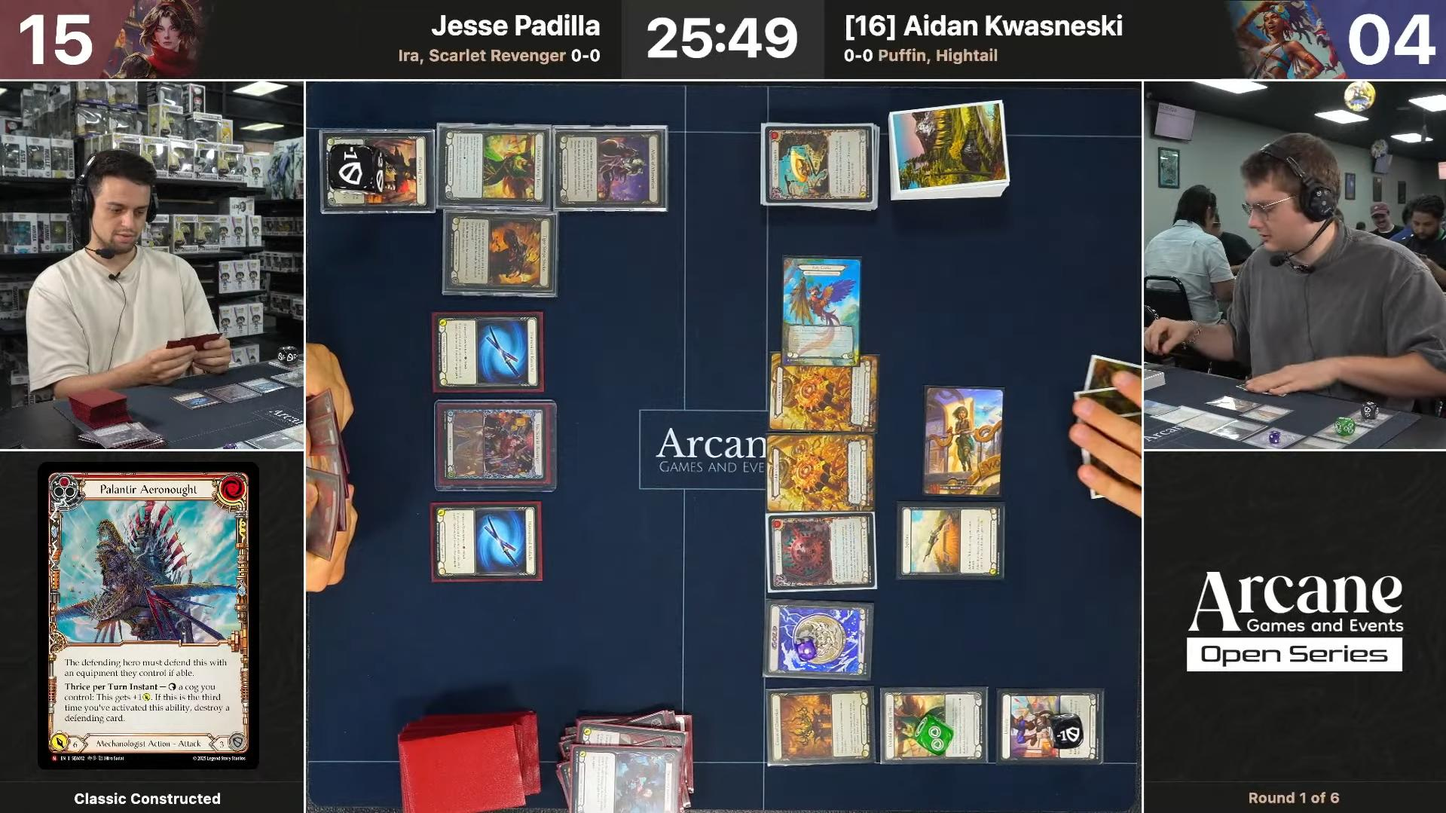Card: (34, 463, 261, 769), (441, 212, 558, 297), (764, 598, 872, 680), (766, 685, 875, 766), (923, 387, 1004, 496), (781, 257, 861, 367), (767, 511, 876, 591), (769, 352, 872, 433), (766, 431, 867, 512), (997, 689, 1104, 765), (570, 745, 680, 813)
Ref: (437, 126, 551, 209), (321, 130, 435, 212), (764, 125, 874, 204), (554, 129, 663, 208), (439, 404, 547, 483), (432, 502, 540, 581), (434, 313, 541, 391), (897, 502, 1004, 579), (880, 688, 988, 764)
